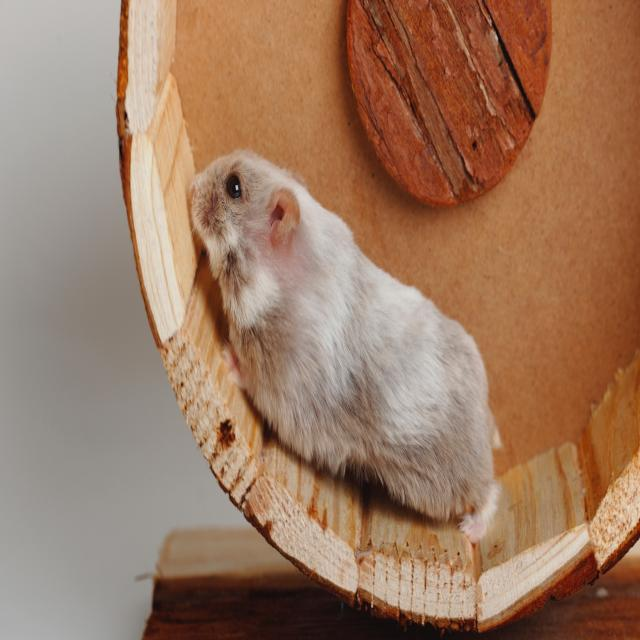hamster: (190, 153, 505, 550)
